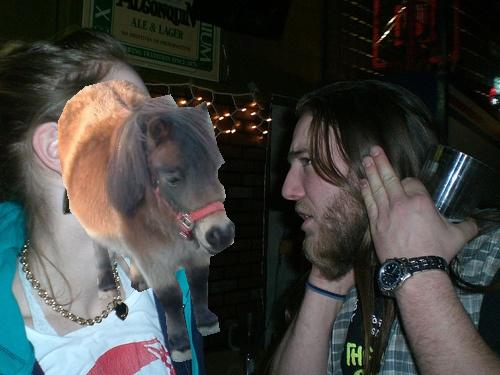tampered: (59, 79, 235, 362)
